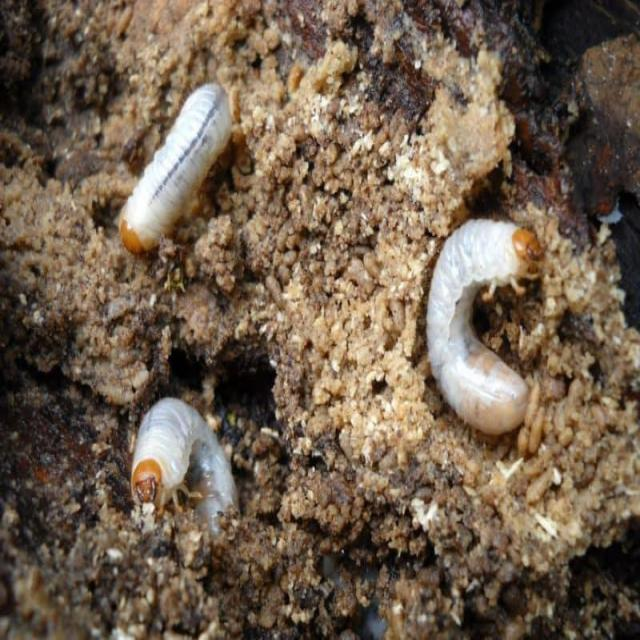Grub-Adult-: (428, 213, 542, 444), (117, 81, 237, 254), (130, 392, 239, 542)
